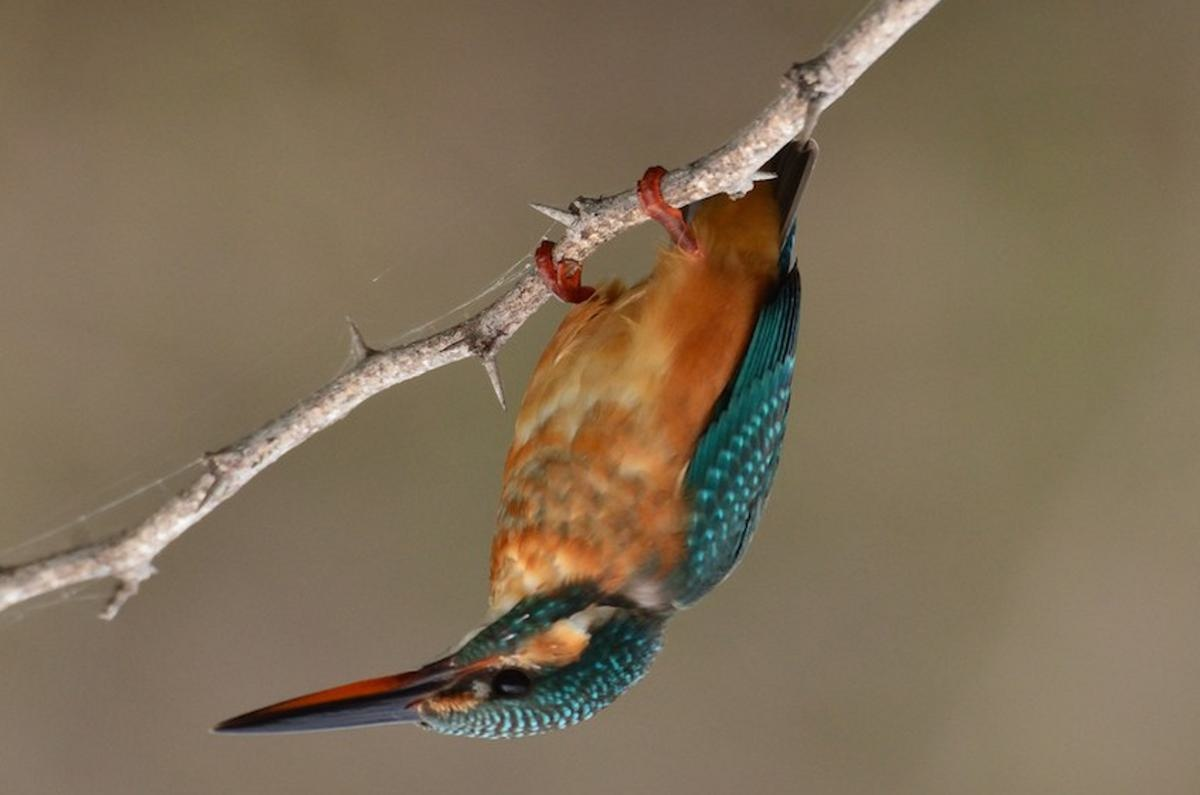kingfisher: (199, 117, 871, 764)
